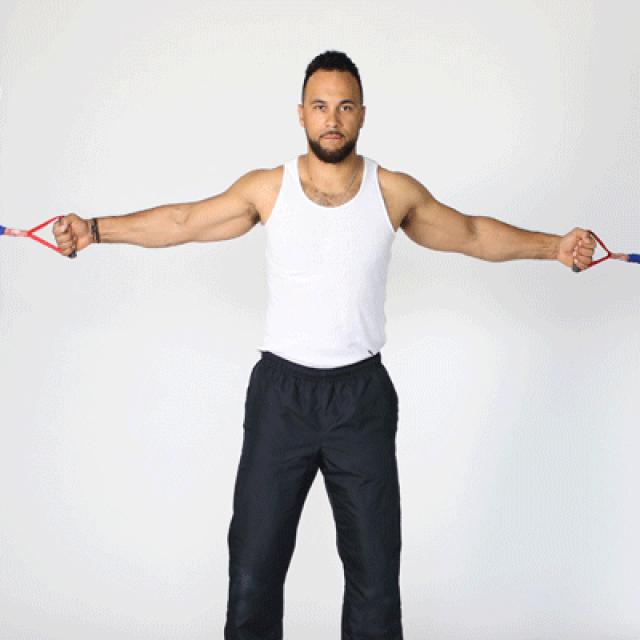human: (49, 37, 601, 640)
